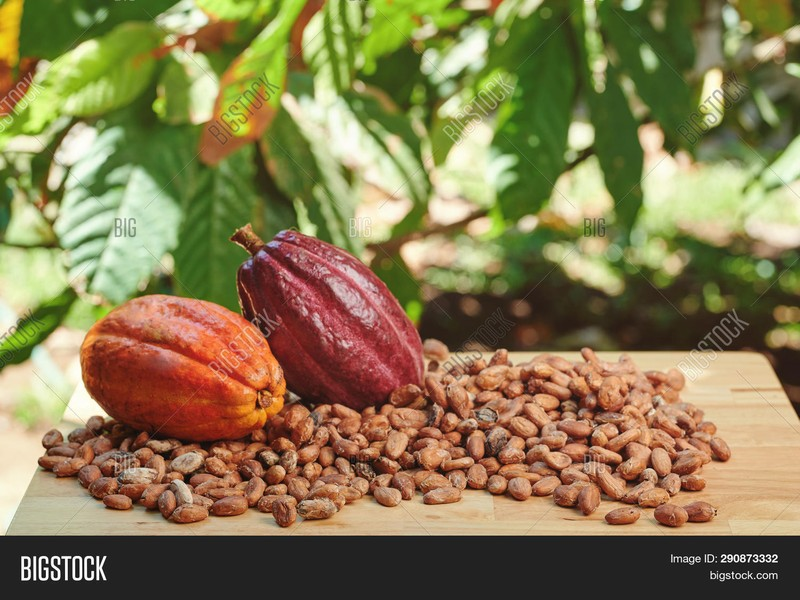Cacaopod: (232, 222, 433, 406), (79, 293, 283, 441)
